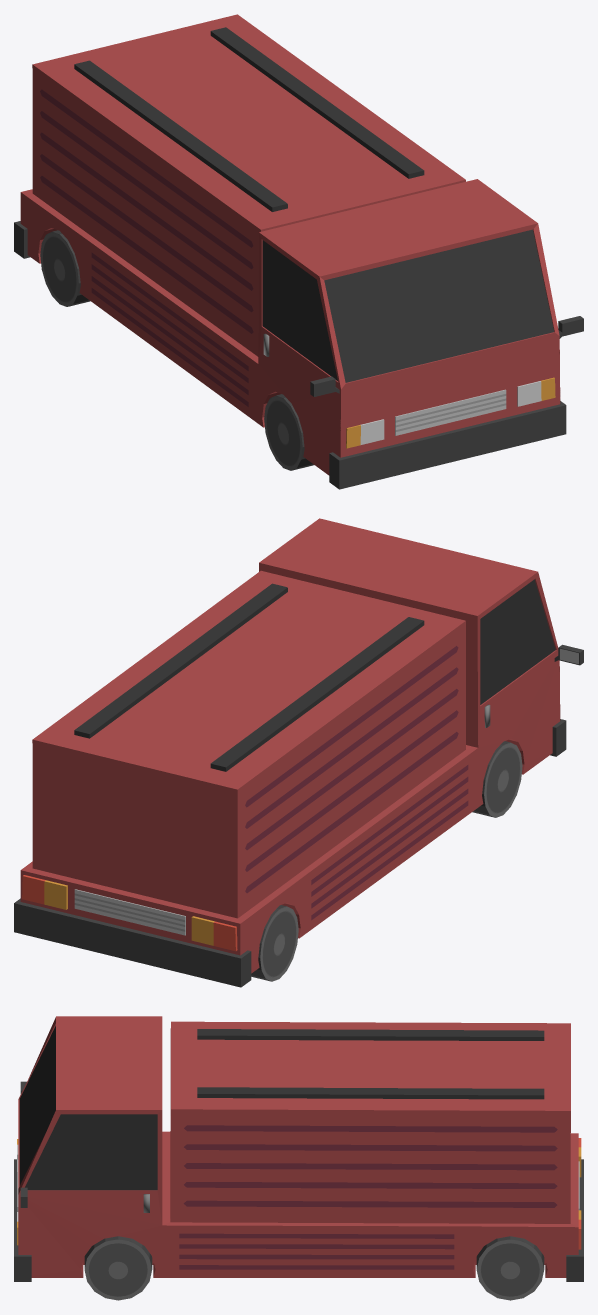
The model's file is truck02_colo01.fbx.
3 views of the same model, one above another, from view 1: azimuth 30°, elevation 25°; view 2: azimuth 150°, elevation 25°; view 3: azimuth 270°, elevation 25° (orthographic). The views are drawn at different scales.
Visible parts, largest first — view 1: Cube.017, Cube.345, Cube.346; view 2: Cube.017, Cube.345, Cube.346; view 3: Cube.017, Cube.018, Cube.031.
Part boxes in pixels (x1=…): Cube.017: x1=14, y1=14, x2=583, y2=489; Cube.345: x1=40, y1=230, x2=90, y2=306; Cube.346: x1=264, y1=394, x2=313, y2=470; Cube.017: x1=14, y1=518, x2=583, y2=987; Cube.345: x1=251, y1=905, x2=298, y2=981; Cube.346: x1=472, y1=741, x2=522, y2=817; Cube.017: x1=14, y1=1016, x2=583, y2=1281; Cube.018: x1=476, y1=1236, x2=544, y2=1300; Cube.031: x1=84, y1=1236, x2=152, y2=1300.
Size of the model in its own units: 351 by 273 by 734.
